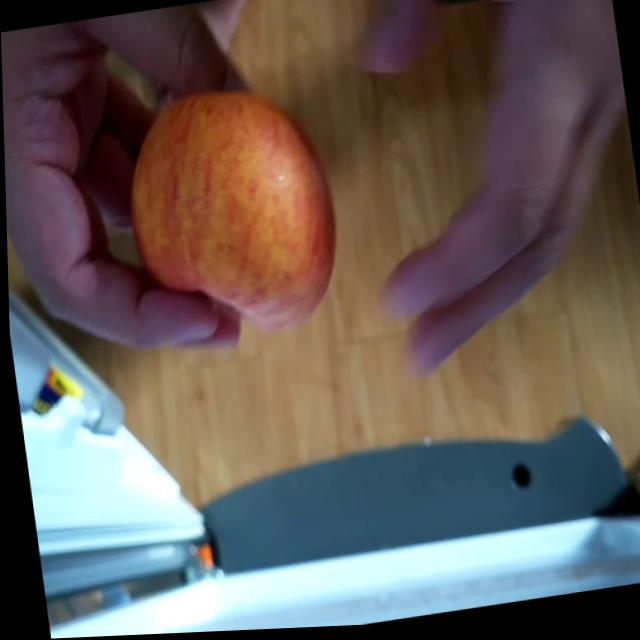apple: (118, 80, 347, 339)
